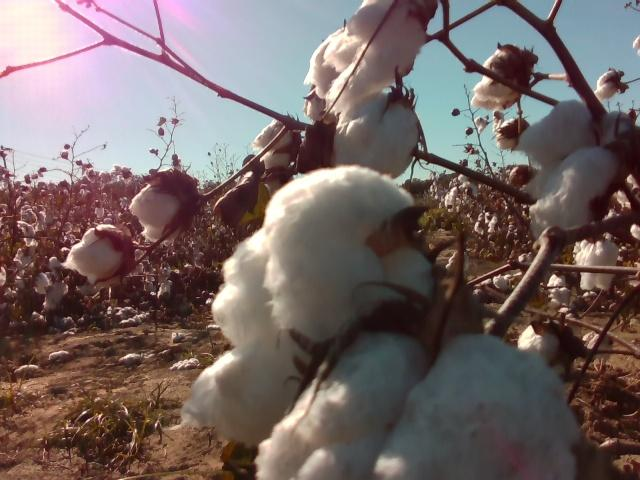cotton_ready: (257, 331, 582, 480), (212, 165, 436, 351), (522, 99, 637, 233), (306, 0, 425, 112), (178, 343, 309, 442), (337, 95, 419, 179), (517, 318, 576, 383), (129, 177, 182, 245), (65, 225, 126, 284), (471, 48, 526, 111), (576, 242, 619, 295), (254, 119, 297, 169), (546, 272, 579, 313)
